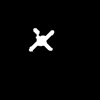single_crochet: (29, 28, 53, 50)
